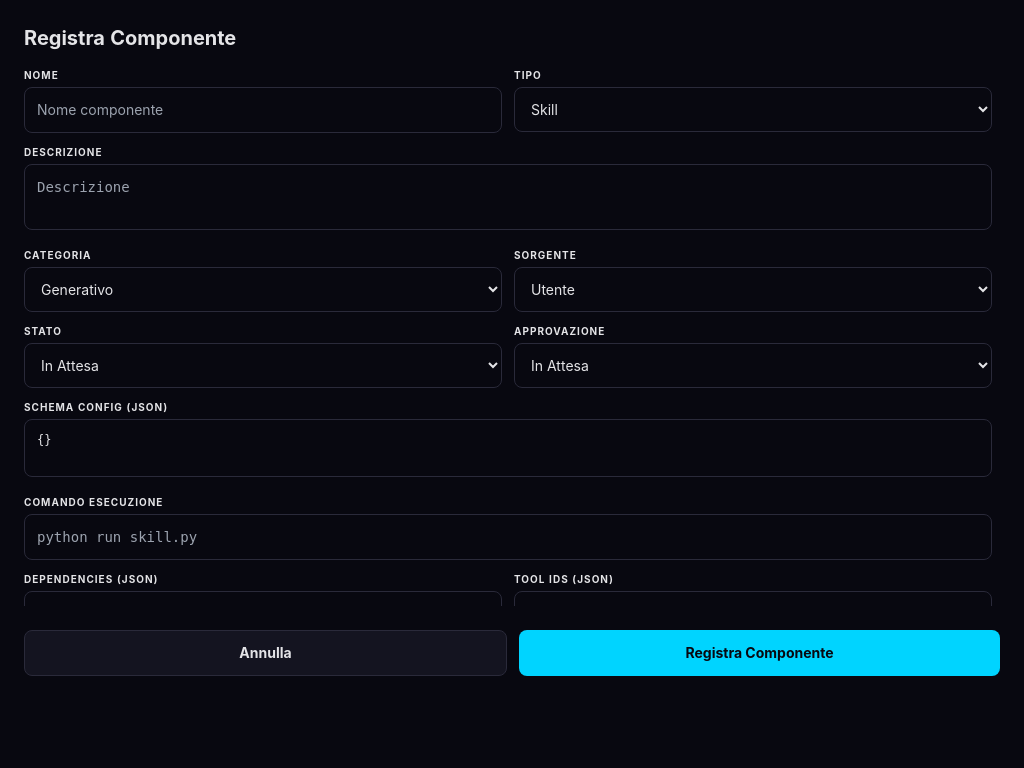
Test case: ComponentFormSlideOver › shows error for empty name on submit
Click the button "Registra Componente": [760, 653] box [519,630,1000,676]
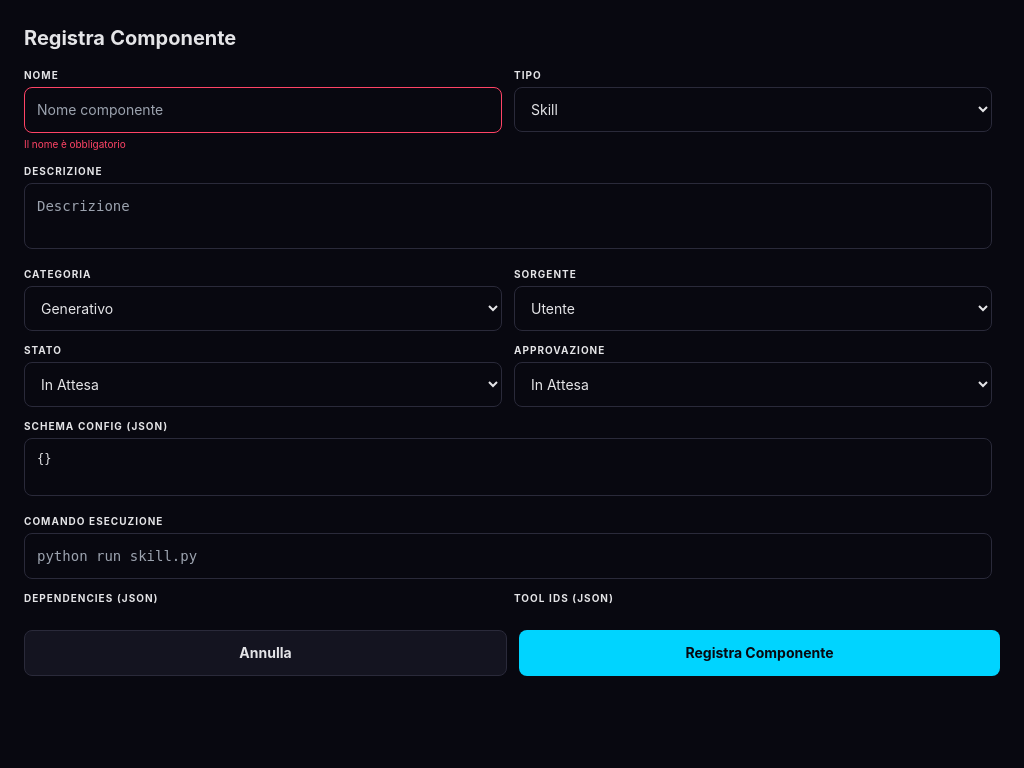
Expected: the text "Il nome è obbligatorio" is shown, [24,138,126,150]
